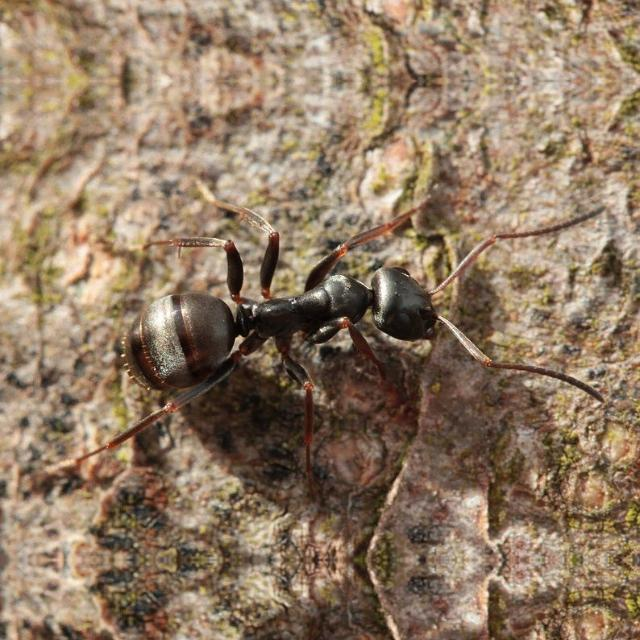Formica: (71, 171, 496, 455)
